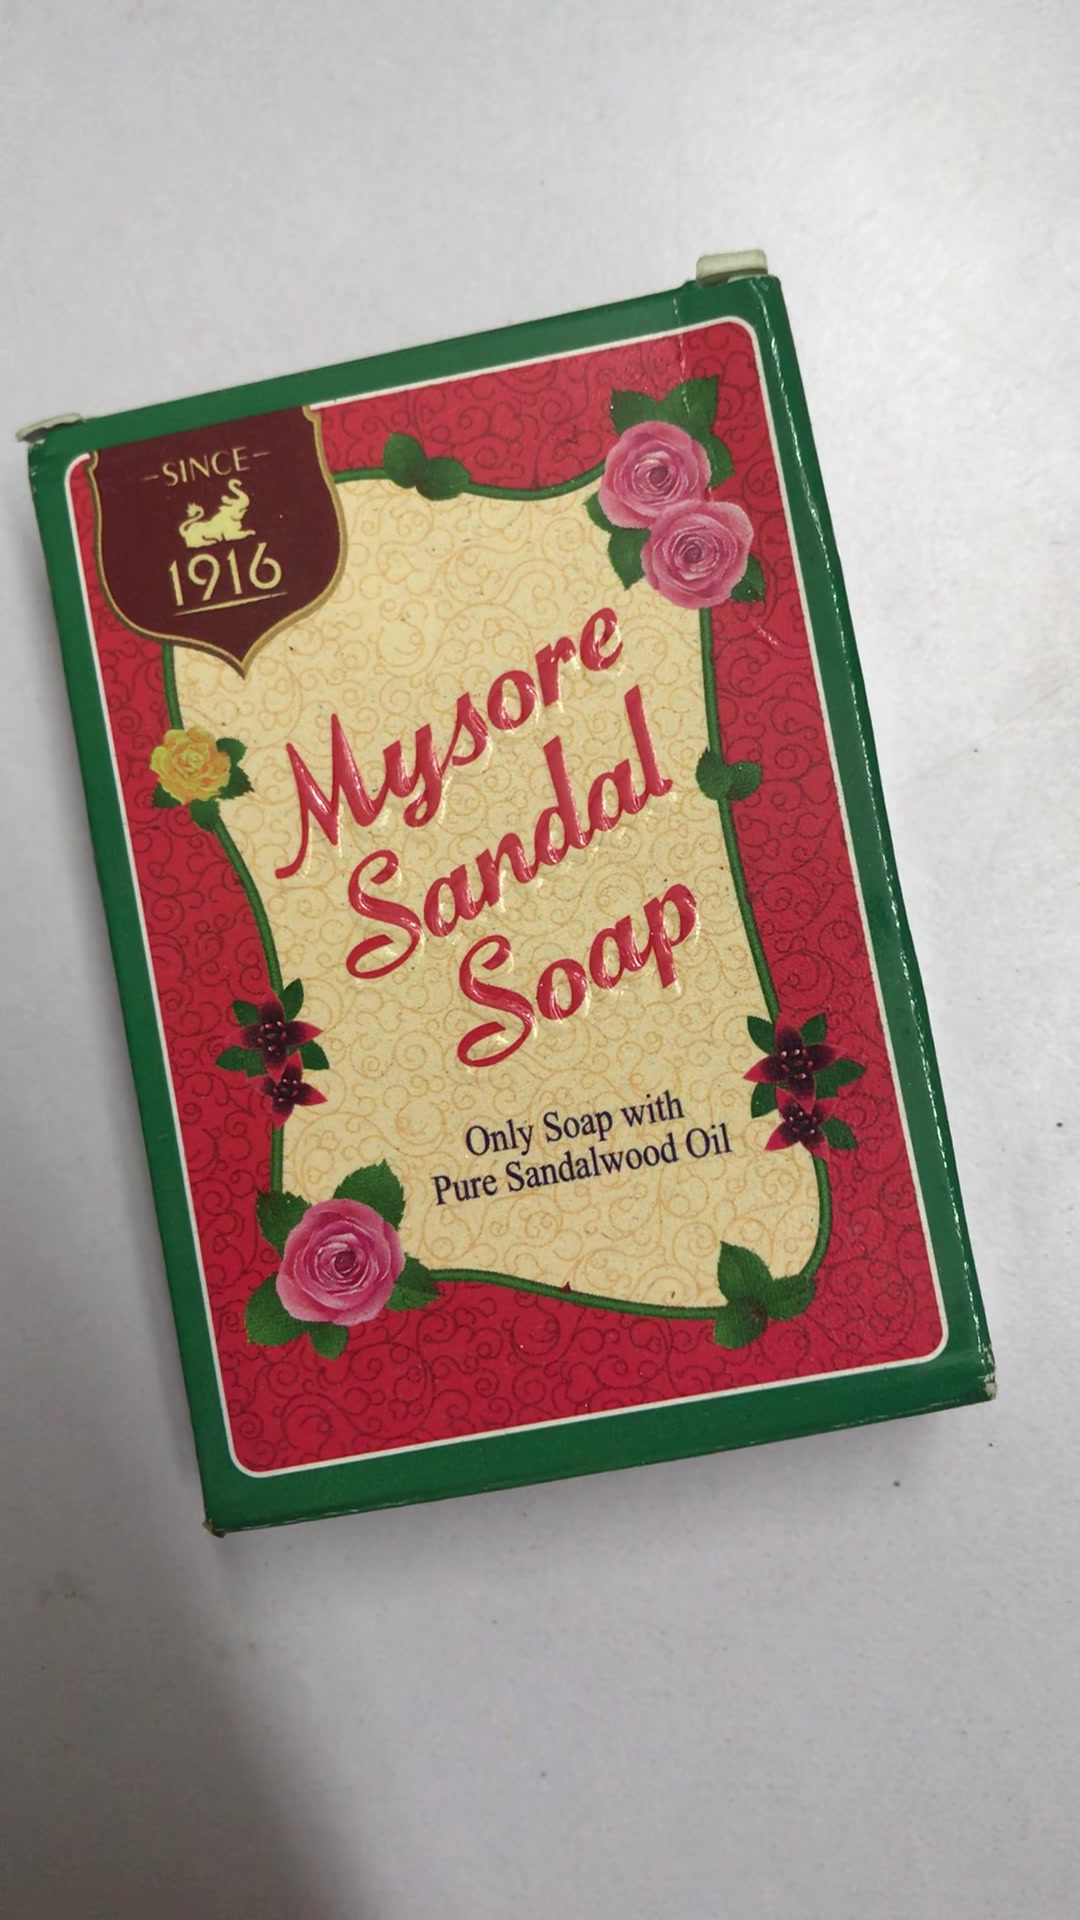mysore sandal soap: (49, 286, 1001, 1531)
